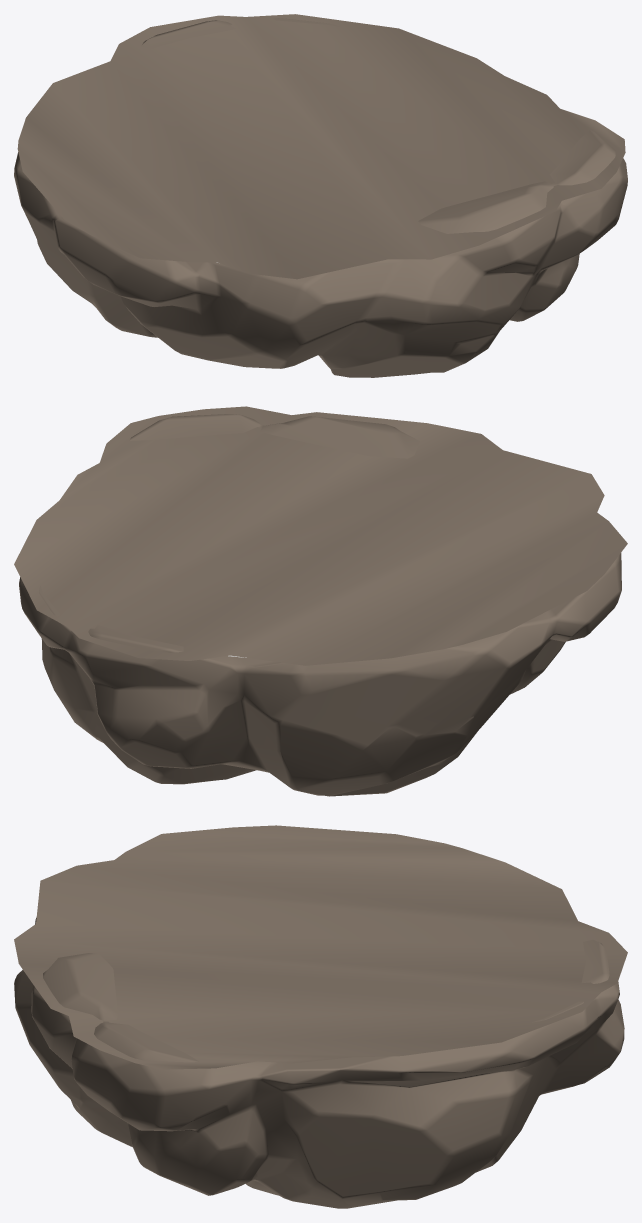
File: IlhaPP1.fbx
3 renders of one model, top to bottom at view 1: azimuth 30°, elevation 25°; view 2: azimuth 150°, elevation 25°; view 3: azimuth 270°, elevation 25°, orthographic. The views are drawn at different scales.
Parts seen in each view (by area): view 1: IlhaPP1Colisor, IlhaPP1; view 2: IlhaPP1Colisor, IlhaPP1; view 3: IlhaPP1Colisor, IlhaPP1.
Boxes of the visible parts, left/top/right/bottom form: IlhaPP1Colisor: left=17, top=14, right=625, bottom=279; IlhaPP1: left=14, top=18, right=627, bottom=377; IlhaPP1Colisor: left=14, top=406, right=627, bottom=665; IlhaPP1: left=19, top=414, right=621, bottom=796; IlhaPP1Colisor: left=14, top=825, right=627, bottom=1069; IlhaPP1: left=14, top=917, right=624, bottom=1208.
Size of the model in its own units: 669 by 274 by 704.
